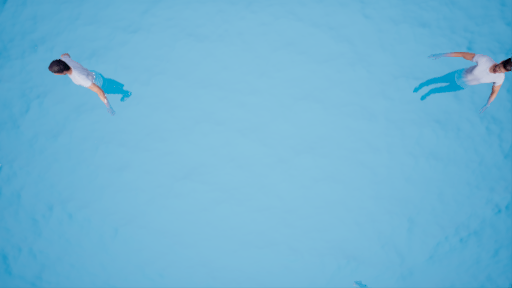person: (413, 46, 512, 107), (45, 50, 136, 116)
